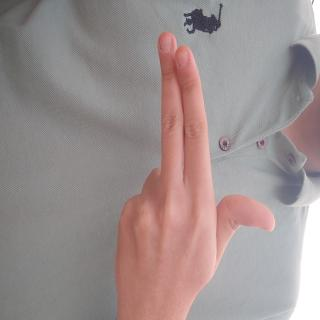GHAYN: (23, 55, 239, 282)
